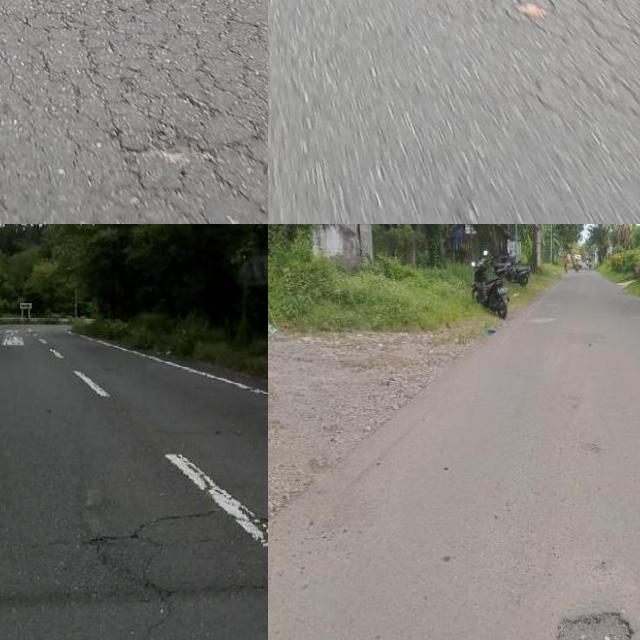Lubang: (539, 611, 640, 640)
Melintang: (0, 508, 268, 568)
Retak Buaya: (0, 0, 268, 224)
